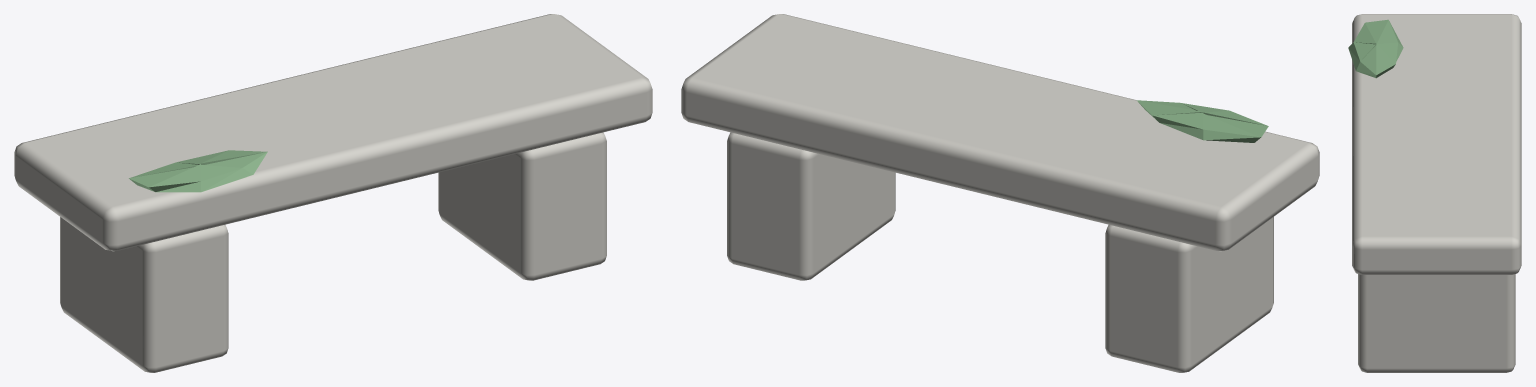
Rendered from stone-bench.glb.
The picture shows the model from 3 angles, left to right: view 1: azimuth 30°, elevation 25°; view 2: azimuth 150°, elevation 25°; view 3: azimuth 270°, elevation 25°; orthographic projection. The views are drawn at different scales.
Parts seen in each view (by area): view 1: garden-stone-bench; view 2: garden-stone-bench; view 3: garden-stone-bench.
Boxes of the visible parts, <box> form: garden-stone-bench: <box>14,14,652,372</box>; garden-stone-bench: <box>681,14,1319,372</box>; garden-stone-bench: <box>1348,14,1521,372</box>.
Bounding box in the file's own units: 1.8 × 0.6023 × 0.5723.
